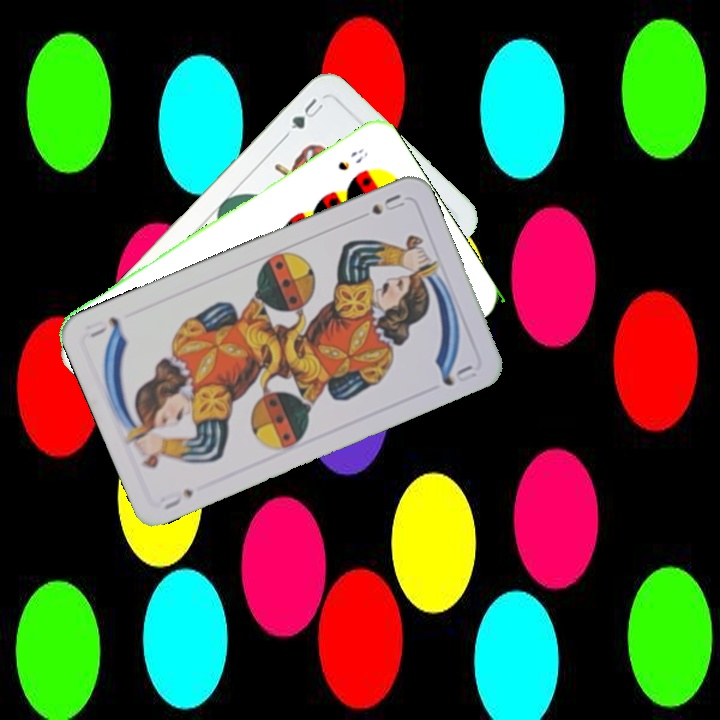GU: (286, 93, 326, 133)
S8: (333, 145, 371, 173)
SU: (156, 484, 196, 513), (367, 190, 408, 218)
